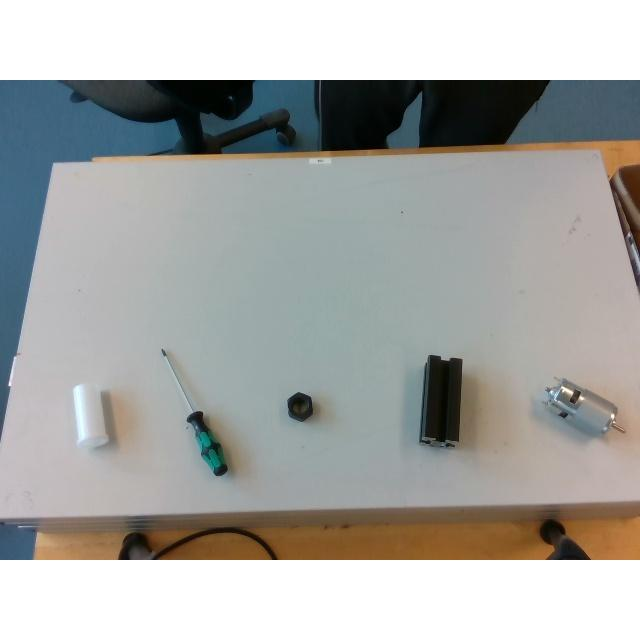M20: (288, 392, 312, 421)
Motor2: (540, 378, 624, 434)
S40_40_B: (418, 354, 462, 446)
Screwdriver: (160, 344, 228, 476)
Spacer: (73, 384, 109, 448)
